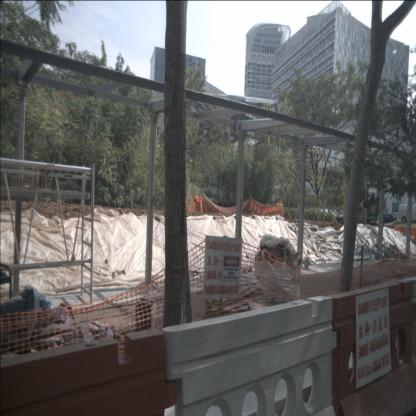movable_object-barrier: (161, 292, 338, 414), (331, 274, 414, 414)
vehicle-car: (398, 204, 416, 223), (383, 212, 398, 223)
